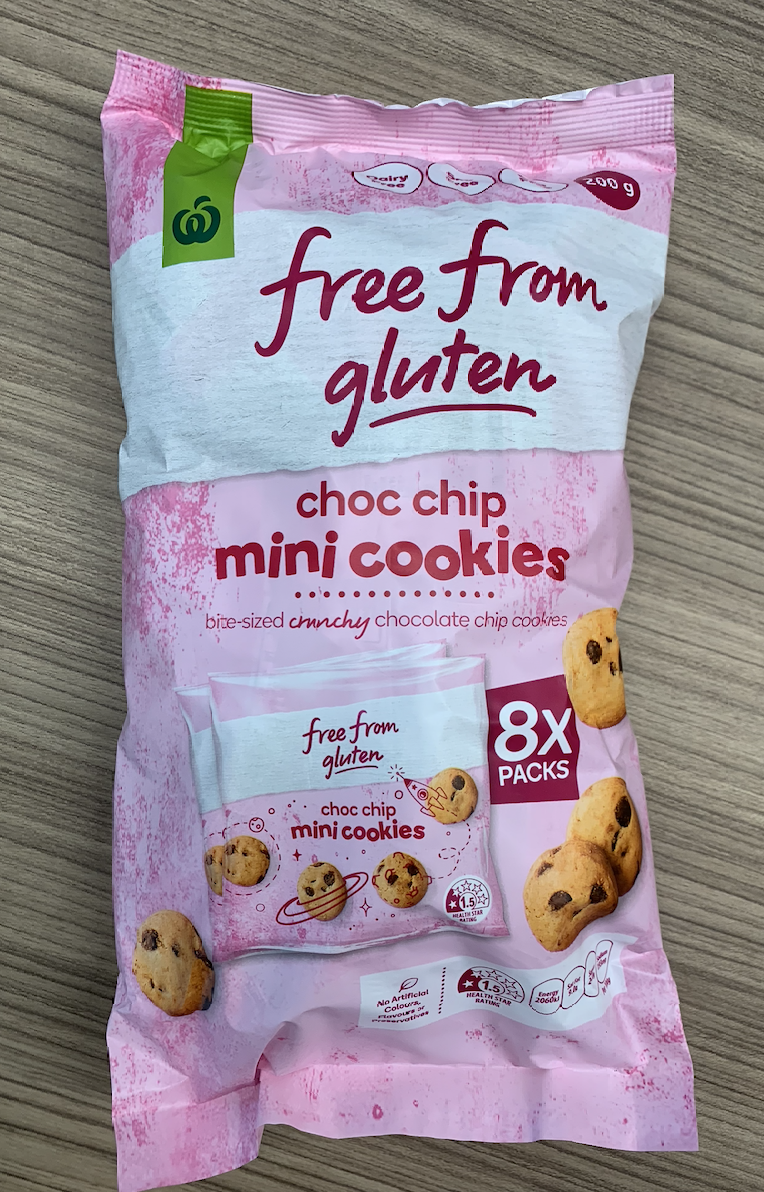cookies_200g-299g: (145, 124, 640, 1085)
